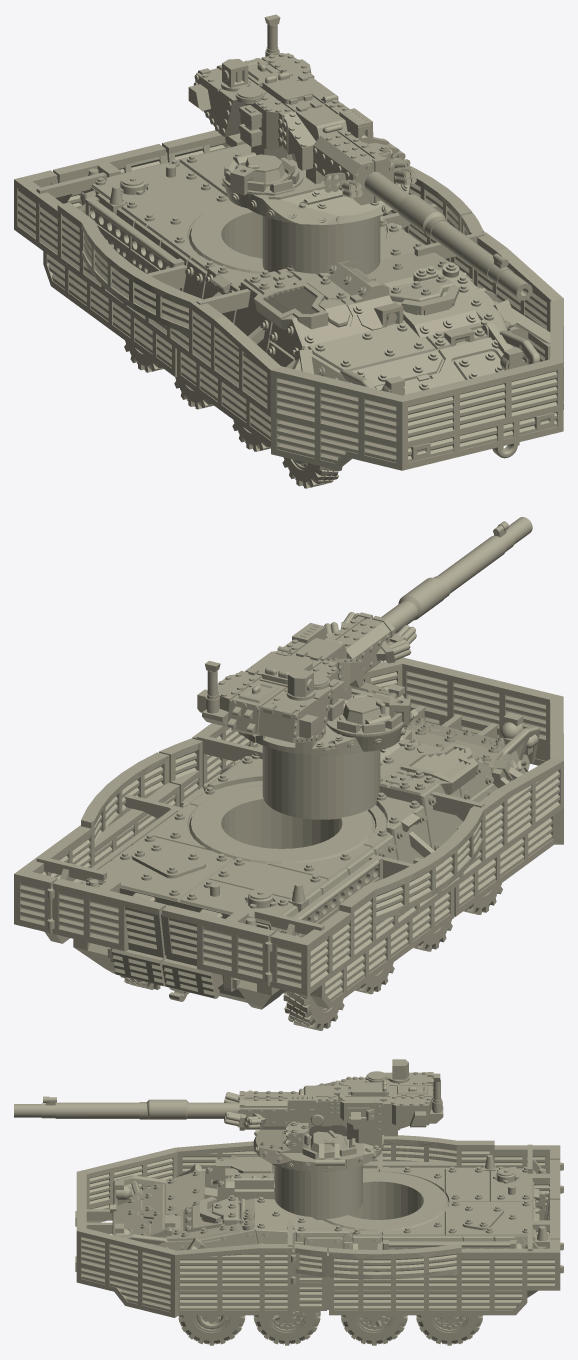
File: m1128_mgs_bergman.glb
3 renders of one model, top to bottom at view 1: azimuth 30°, elevation 25°; view 2: azimuth 150°, elevation 25°; view 3: azimuth 270°, elevation 25°, orthographic. The views are drawn at different scales.
Parts seen in each view (by area): view 1: HullMesh, TurretMesh; view 2: HullMesh, TurretMesh; view 3: HullMesh, TurretMesh.
Part boxes in pixels (left/top/right/bottom): HullMesh: left=14, top=130, right=563, bottom=488; TurretMesh: left=188, top=14, right=532, bottom=300; HullMesh: left=14, top=657, right=563, bottom=1030; TurretMesh: left=197, top=517, right=532, bottom=819; HullMesh: left=75, top=1135, right=563, bottom=1345; TurretMesh: left=14, top=1059, right=443, bottom=1219.
Bounding box in the file's own units: 4.47 × 4.29 × 8.7.
